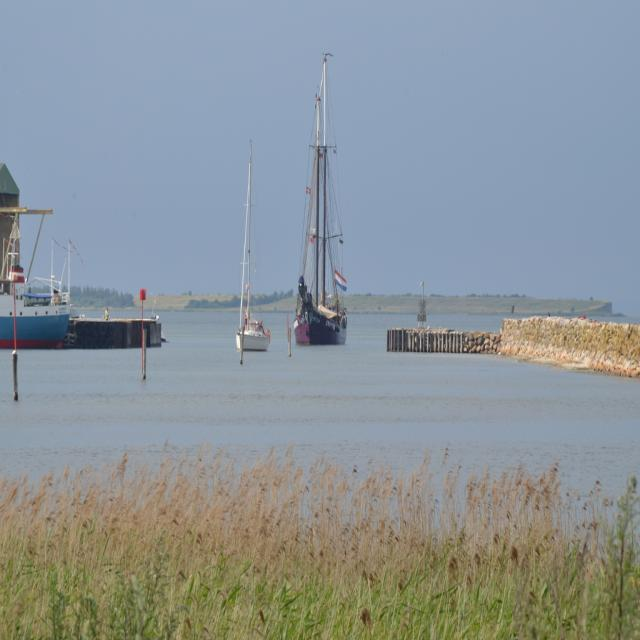Boat: (296, 53, 347, 346), (0, 163, 78, 352), (233, 141, 270, 353)
